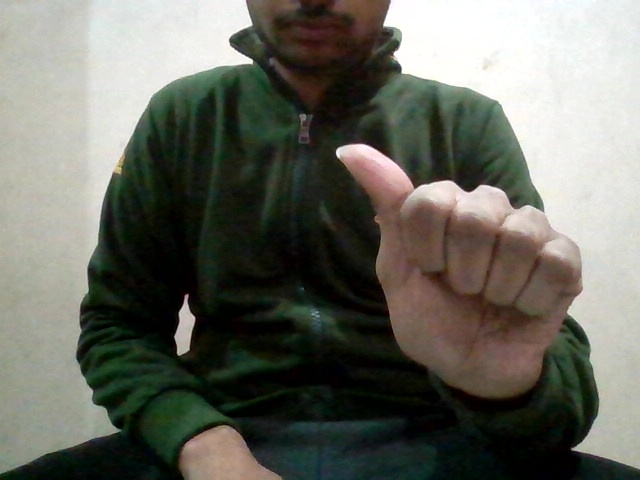A: (330, 139, 609, 405)
